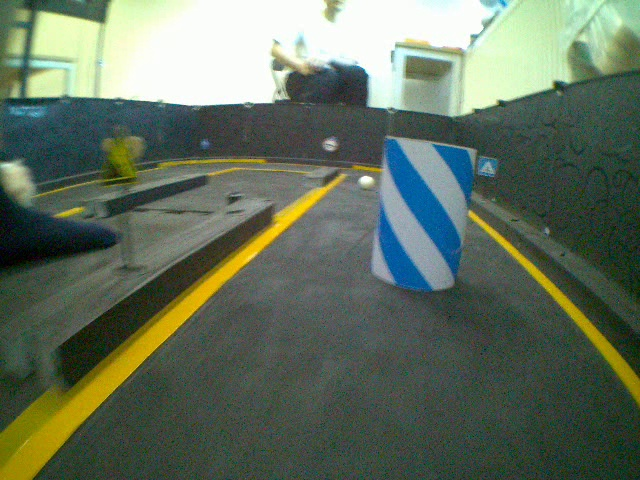bucket: (375, 132, 467, 295)
